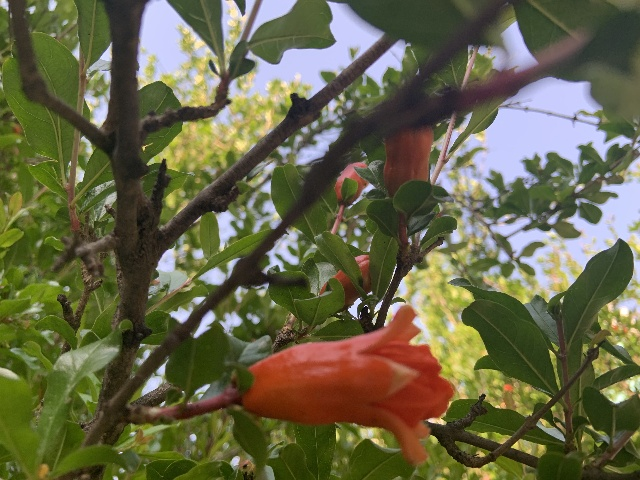bud: (383, 126, 433, 199), (319, 255, 370, 307), (334, 162, 369, 205)
flower: (242, 309, 456, 464)
